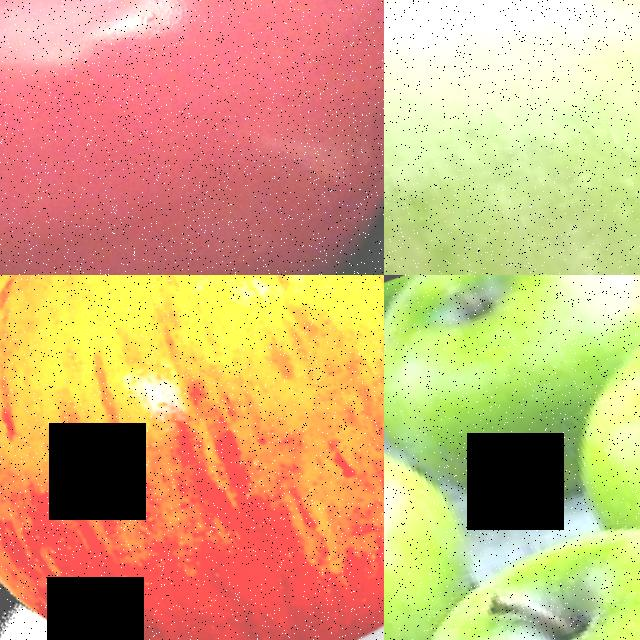apple: (0, 275, 384, 640), (0, 0, 384, 275), (384, 0, 640, 275), (384, 411, 640, 640), (384, 275, 640, 448), (536, 275, 640, 551), (384, 370, 485, 640)
